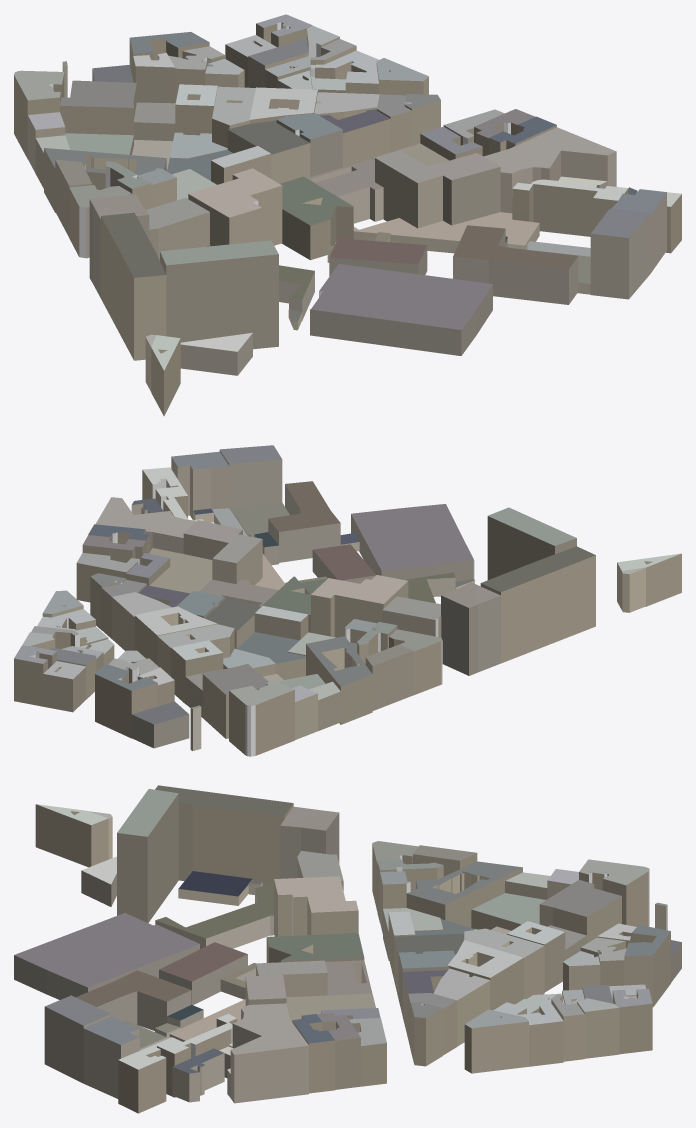
The picture shows the model from 3 angles, top to bottom: view 1: azimuth 30°, elevation 25°; view 2: azimuth 150°, elevation 25°; view 3: azimuth 270°, elevation 25°; orthographic projection. The views are drawn at different scales.
Parts seen in each view (by area): view 1: tuile; view 2: tuile; view 3: tuile.
Part boxes in pixels (x1,y1,x2,y2): tuile: (14,14,681,416); tuile: (14,445,681,756); tuile: (14,785,681,1113).
Bounding box in the file's own units: 259 × 41.24 × 278.
